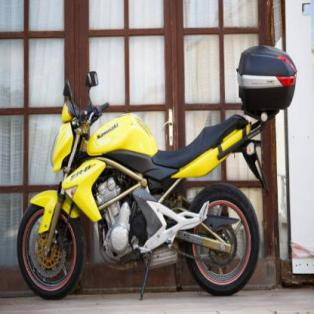Motocicleta: (14, 42, 298, 314)
